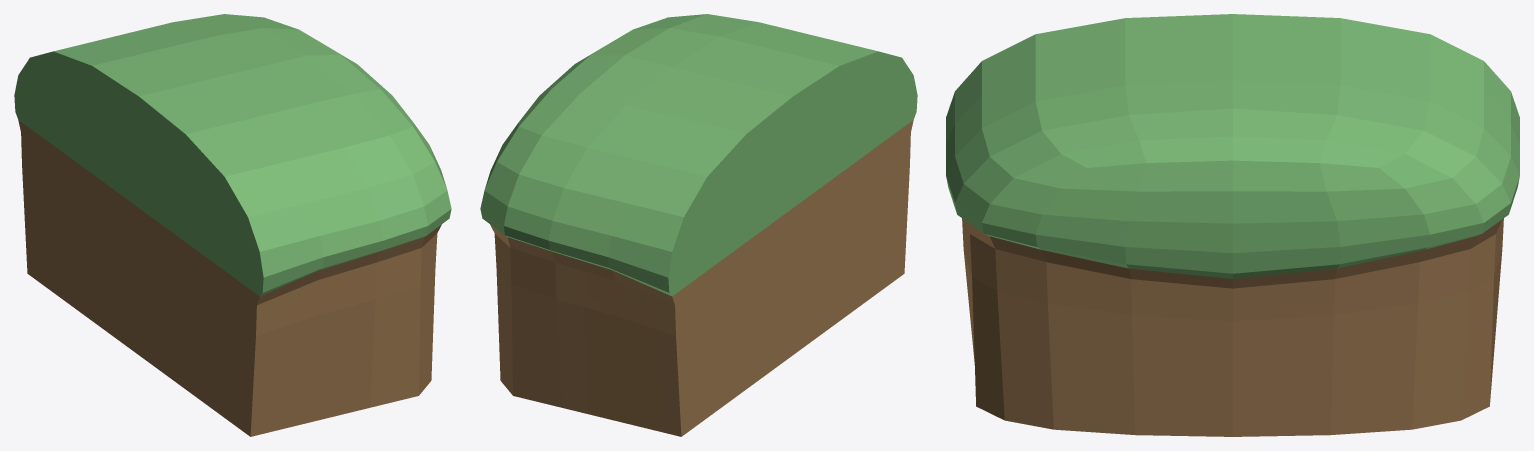
File: Platform_TopRight.glb
The picture shows the model from 3 angles, left to right: view 1: azimuth 30°, elevation 25°; view 2: azimuth 150°, elevation 25°; view 3: azimuth 270°, elevation 25°; orthographic projection. The views are drawn at different scales.
Parts seen in each view (by area): view 1: Platform_TopRight; view 2: Platform_TopRight; view 3: Platform_TopRight.
Part boxes in pixels (x1,y1,x2,y2): Platform_TopRight: (14,14,451,436); Platform_TopRight: (480,14,917,436); Platform_TopRight: (946,14,1519,436).
Size of the model in its own units: 1.9 by 2 by 3.49.
